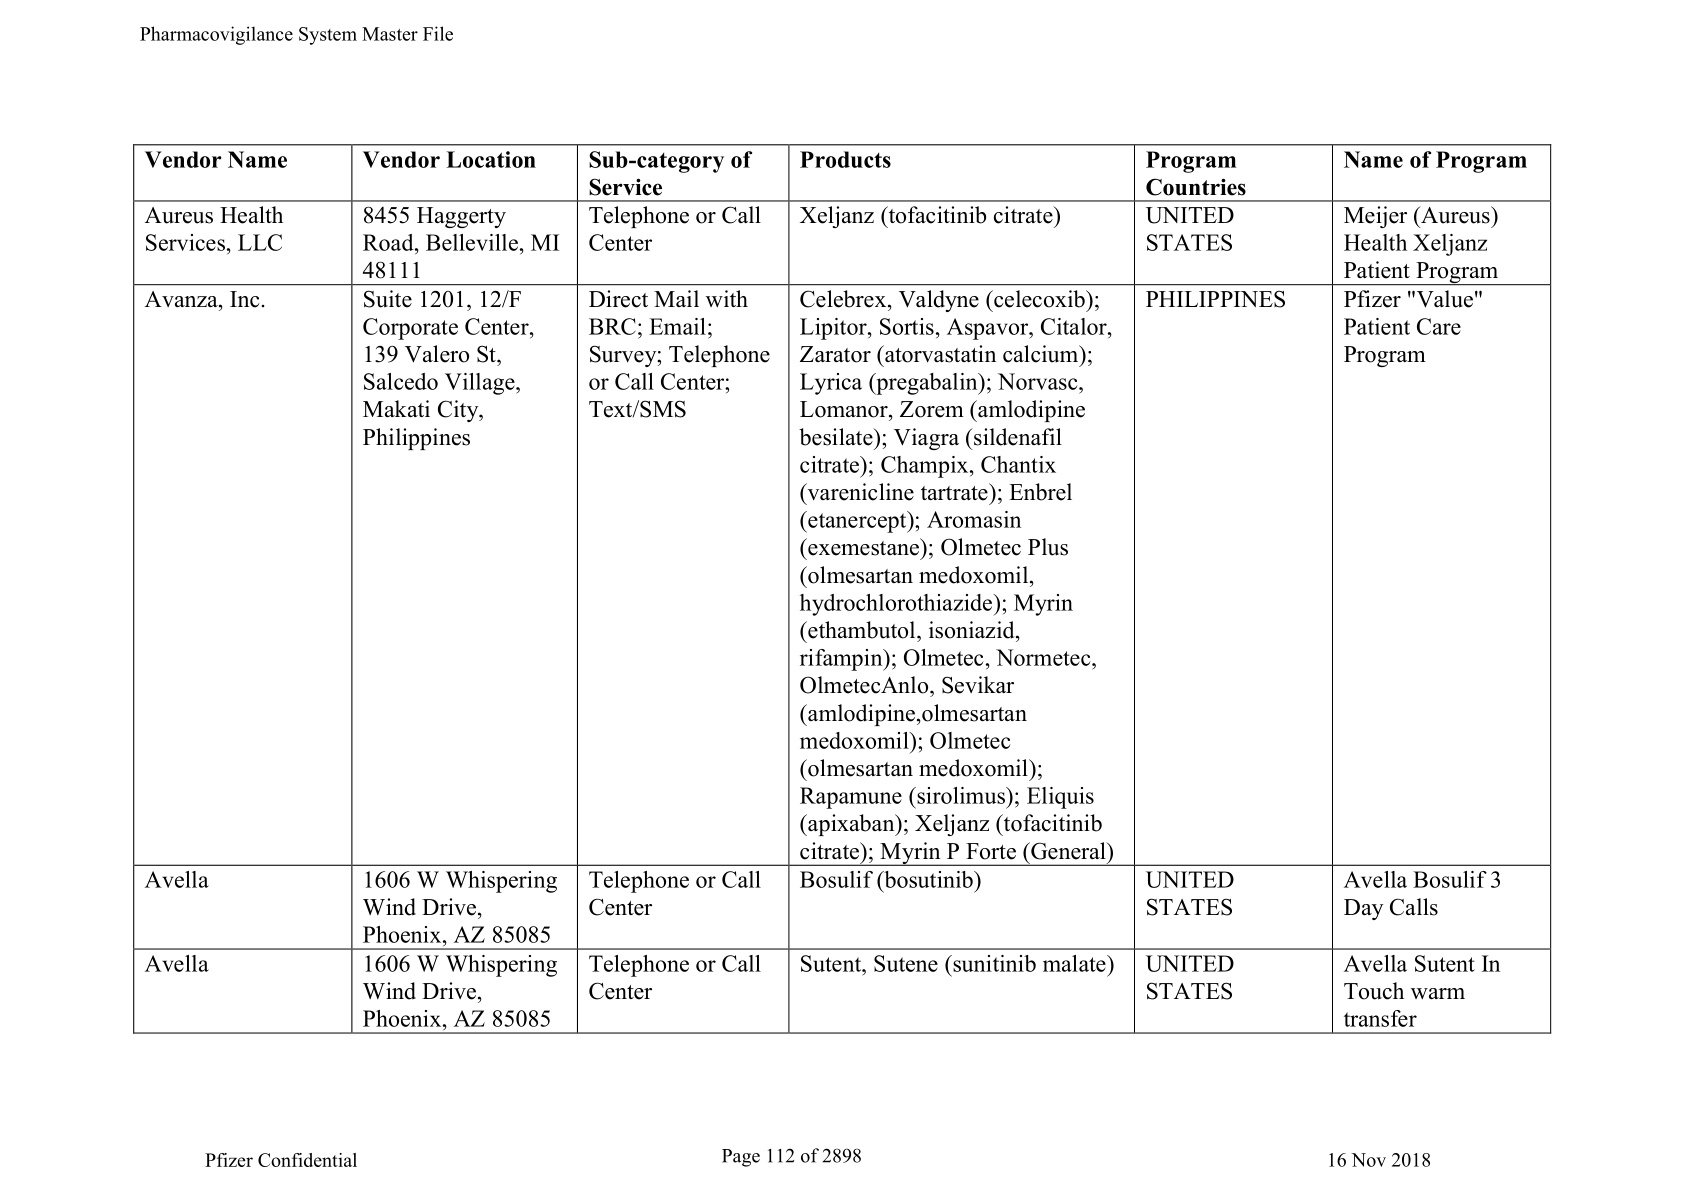full_lined: (124, 135, 1561, 1041)
